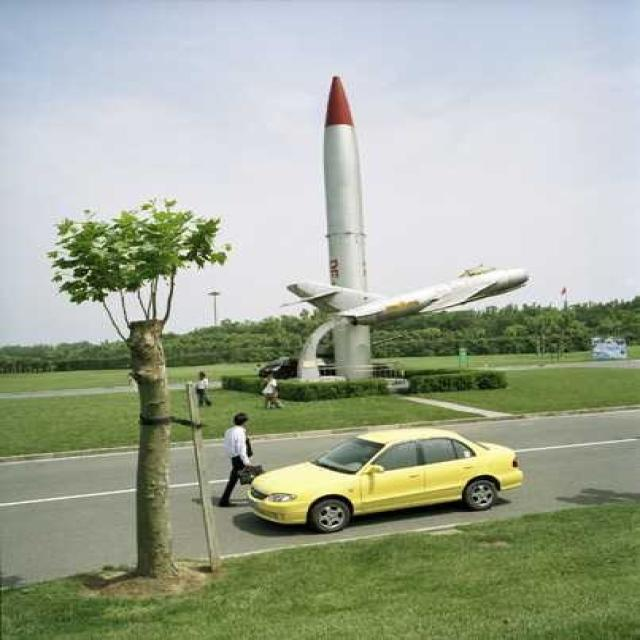missile: (318, 70, 388, 376)
